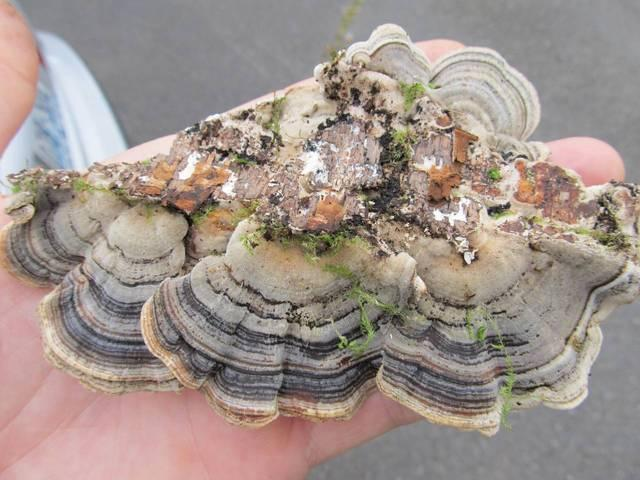Non-edible Mushroom: (0, 22, 639, 436)
